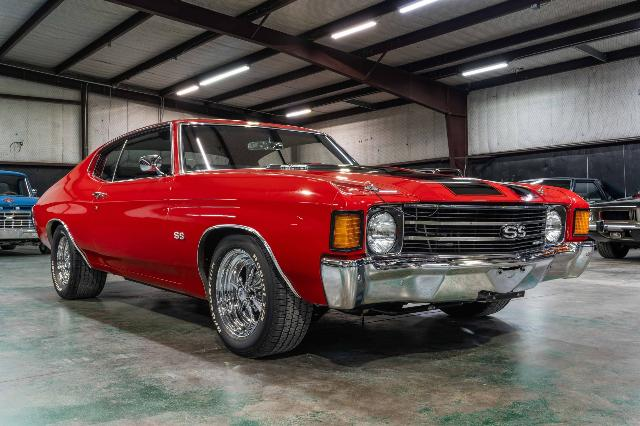chevelle-1972: (34, 119, 594, 358)
